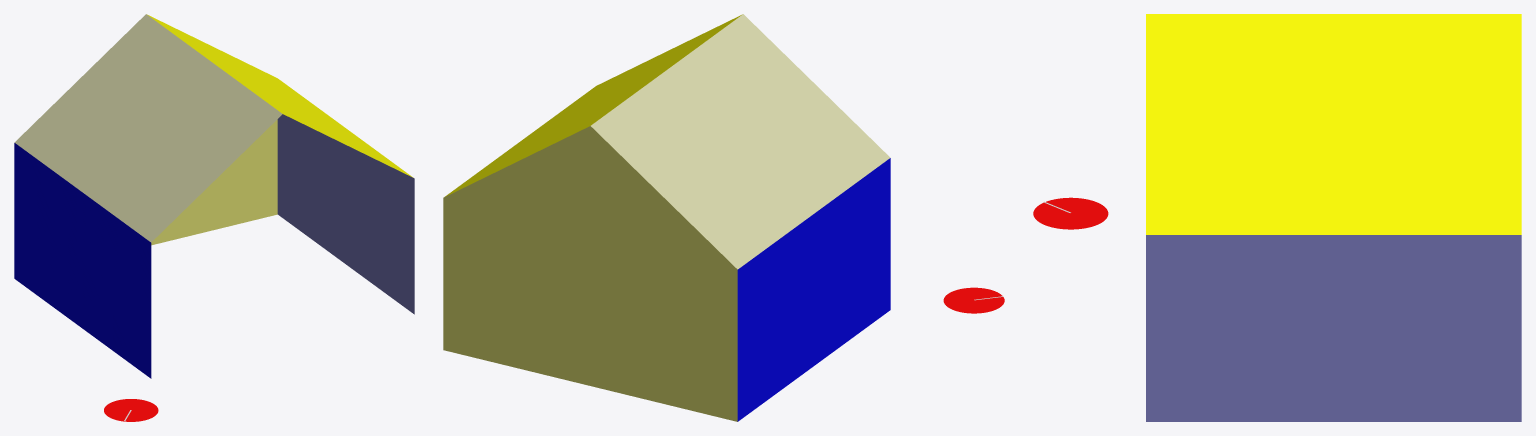
Rendered from result.glb.
The picture shows the model from 3 angles, left to right: view 1: azimuth 30°, elevation 25°; view 2: azimuth 150°, elevation 25°; view 3: azimuth 270°, elevation 25°; orthographic projection. The views are drawn at different scales.
Visible parts, largest first — view 1: b0a1110a-ef18-4a3e-ab47-a35cee0a284a__undefined, 96f7adb7-c500-4348-8157-6b312f298d82__undefined, 6d4e1310-34c3-43c1-b0f3-7dde5e595851__undefined, 323af6c5-802b-4494-9dae-19a521ab275d__undefined, 395b49cb-ed77-4568-b7ed-50e64ba5b324__undefined, 2aaf0bc4-5ecc-4244-93ce-aa2b319c40dc__Circle; view 2: 323af6c5-802b-4494-9dae-19a521ab275d__undefined, b0a1110a-ef18-4a3e-ab47-a35cee0a284a__undefined, 96f7adb7-c500-4348-8157-6b312f298d82__undefined, 395b49cb-ed77-4568-b7ed-50e64ba5b324__undefined, 2aaf0bc4-5ecc-4244-93ce-aa2b319c40dc__Circle; view 3: 395b49cb-ed77-4568-b7ed-50e64ba5b324__undefined, 6d4e1310-34c3-43c1-b0f3-7dde5e595851__undefined, 2aaf0bc4-5ecc-4244-93ce-aa2b319c40dc__Circle.
Boxes of the visible parts, <box> form: b0a1110a-ef18-4a3e-ab47-a35cee0a284a__undefined: <box>14,14,282,242</box>; 96f7adb7-c500-4348-8157-6b312f298d82__undefined: <box>14,143,151,378</box>; 6d4e1310-34c3-43c1-b0f3-7dde5e595851__undefined: <box>277,114,414,314</box>; 323af6c5-802b-4494-9dae-19a521ab275d__undefined: <box>151,119,277,245</box>; 395b49cb-ed77-4568-b7ed-50e64ba5b324__undefined: <box>147,14,413,177</box>; 2aaf0bc4-5ecc-4244-93ce-aa2b319c40dc__Circle: <box>104,399,158,421</box>; 323af6c5-802b-4494-9dae-19a521ab275d__undefined: <box>443,126,737,421</box>; b0a1110a-ef18-4a3e-ab47-a35cee0a284a__undefined: <box>591,14,890,269</box>; 96f7adb7-c500-4348-8157-6b312f298d82__undefined: <box>737,158,890,421</box>; 395b49cb-ed77-4568-b7ed-50e64ba5b324__undefined: <box>445,14,742,196</box>; 2aaf0bc4-5ecc-4244-93ce-aa2b319c40dc__Circle: <box>943,287,1004,313</box>; 395b49cb-ed77-4568-b7ed-50e64ba5b324__undefined: <box>1146,14,1521,234</box>; 6d4e1310-34c3-43c1-b0f3-7dde5e595851__undefined: <box>1146,235,1521,421</box>; 2aaf0bc4-5ecc-4244-93ce-aa2b319c40dc__Circle: <box>1033,197,1108,229</box>.
Bounding box in the file's own units: 706 × 469 × 650.
